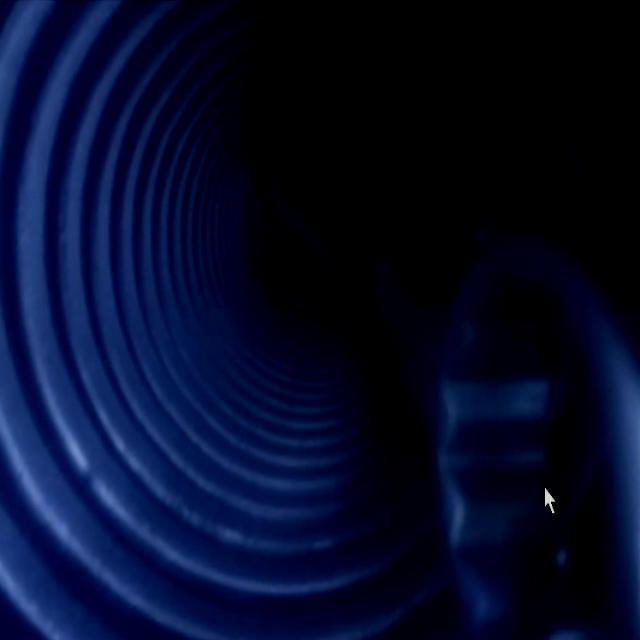metal piece: (370, 215, 640, 640)
